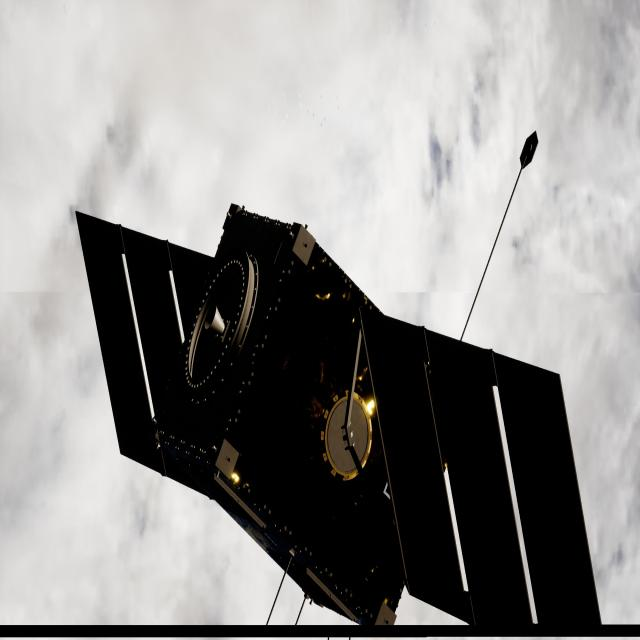medium_debris: (74, 206, 602, 635)
